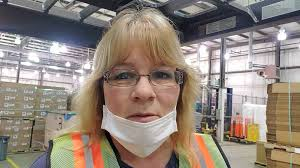with_incorrect_mask: (98, 59, 184, 140)
